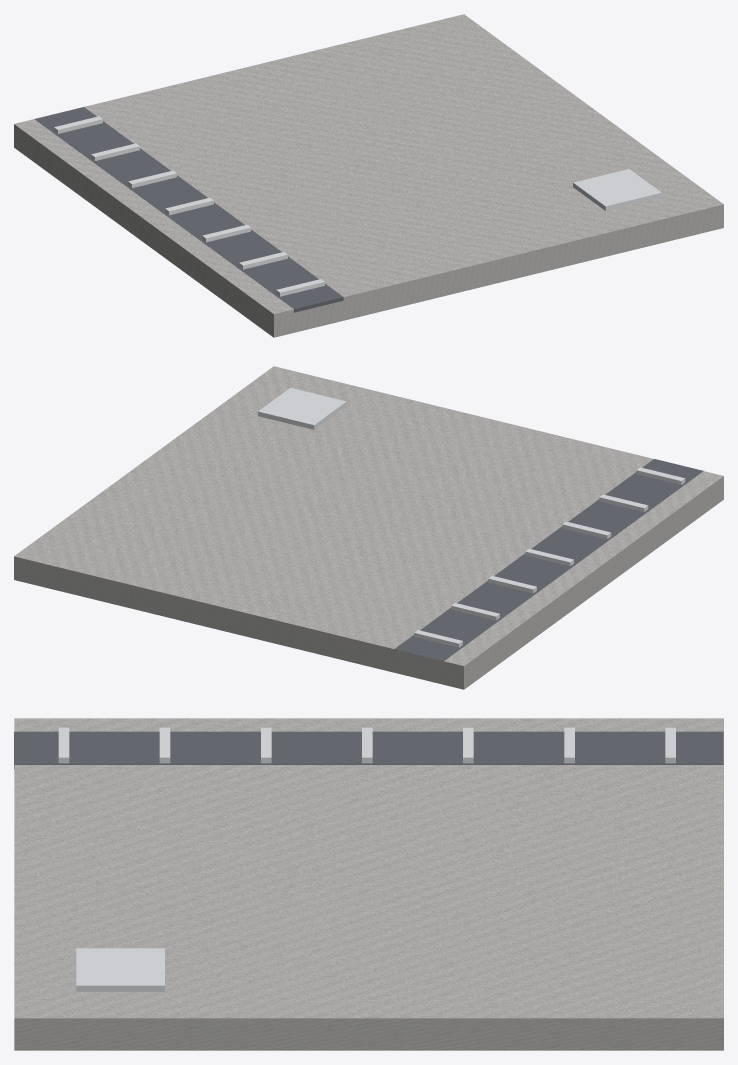
File: shipyard-and-dry-dock-shipyard-and-dry-dock-dry-dock-f-11e266ba__37914.glb
The picture shows the model from 3 angles, top to bottom: view 1: azimuth 30°, elevation 25°; view 2: azimuth 150°, elevation 25°; view 3: azimuth 270°, elevation 25°; orthographic projection. The views are drawn at different scales.
Parts seen in each view (by area): view 1: shipyard-and-dry-dock-dry-dock-floor-tile; view 2: shipyard-and-dry-dock-dry-dock-floor-tile; view 3: shipyard-and-dry-dock-dry-dock-floor-tile.
Part boxes in pixels (bbox=[...]): shipyard-and-dry-dock-dry-dock-floor-tile: bbox=[14, 14, 723, 337]; shipyard-and-dry-dock-dry-dock-floor-tile: bbox=[14, 366, 723, 689]; shipyard-and-dry-dock-dry-dock-floor-tile: bbox=[14, 718, 723, 1050].
Bounding box in the file's own units: 4 × 0.2401 × 4.
3 materials, 1 textured.
